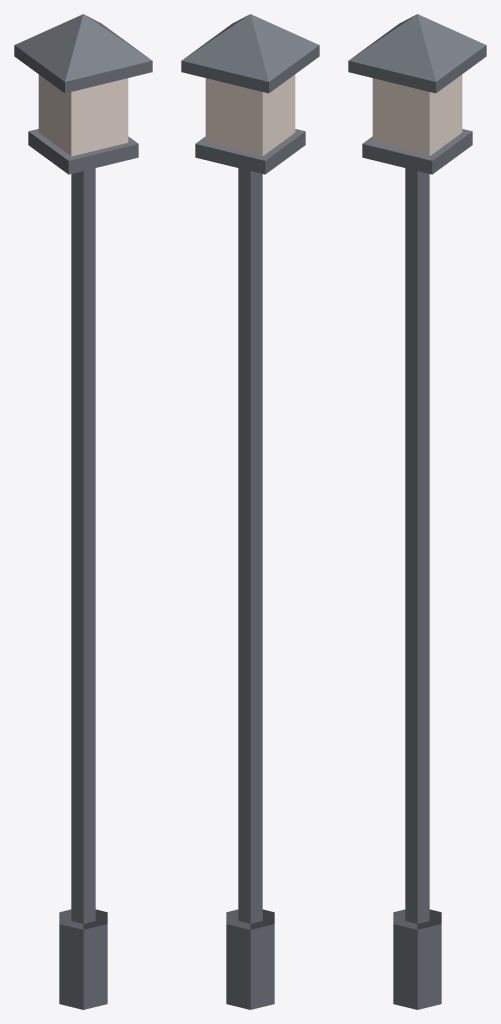
The model's file is site_light.fbx.
3 views of the same model, side by side, from view 1: azimuth 30°, elevation 25°; view 2: azimuth 150°, elevation 25°; view 3: azimuth 330°, elevation 25° (orthographic).
Visible parts, largest first — view 1: a3004/0/site_light; view 2: a3004/0/site_light; view 3: a3004/0/site_light.
Part boxes in pixels (left/top/right/bottom): a3004/0/site_light: left=14, top=14, right=152, bottom=1009; a3004/0/site_light: left=181, top=14, right=319, bottom=1009; a3004/0/site_light: left=348, top=14, right=486, bottom=1009.
Bounding box in the file's own units: 0.4 × 4.3 × 0.4.
